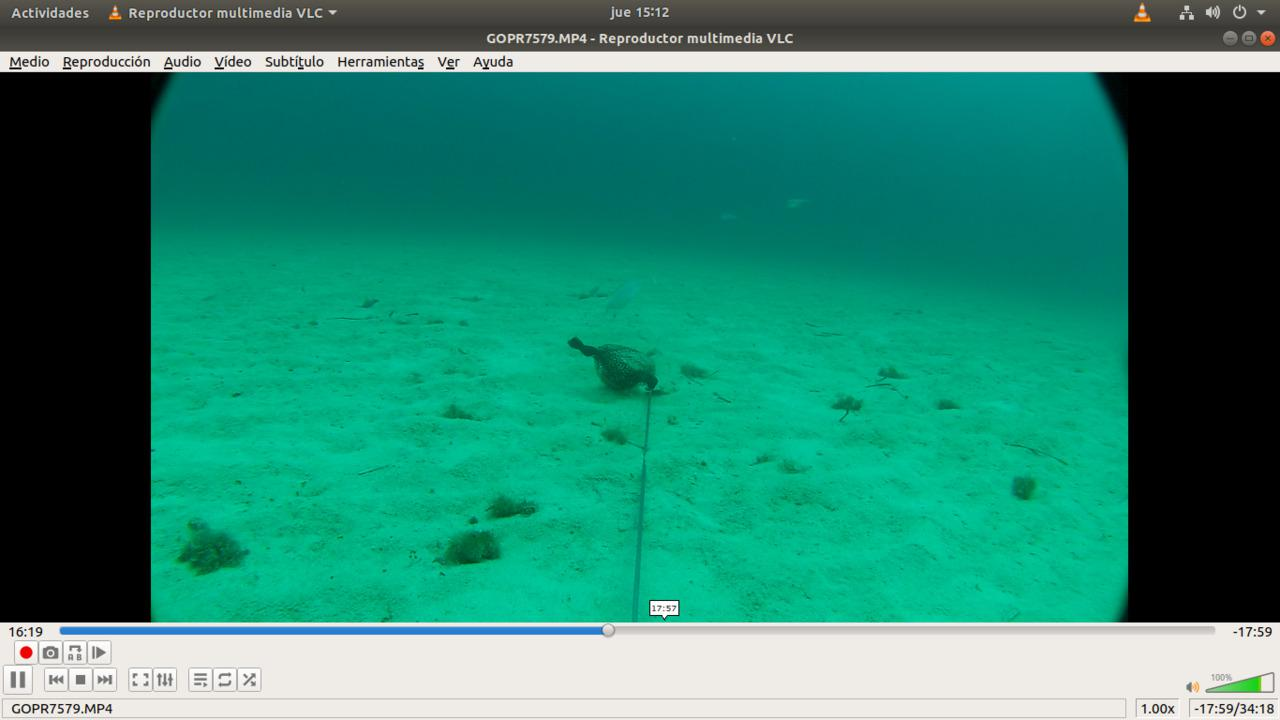raor: (601, 272, 651, 318), (776, 192, 818, 210), (717, 207, 748, 226)
